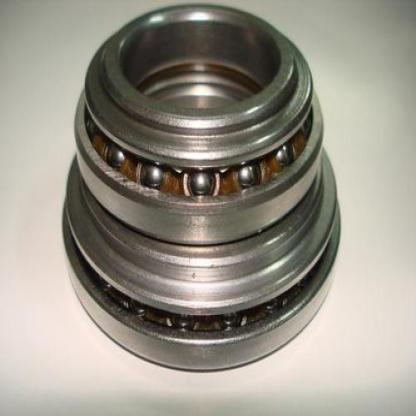FOD: (62, 0, 344, 378)
